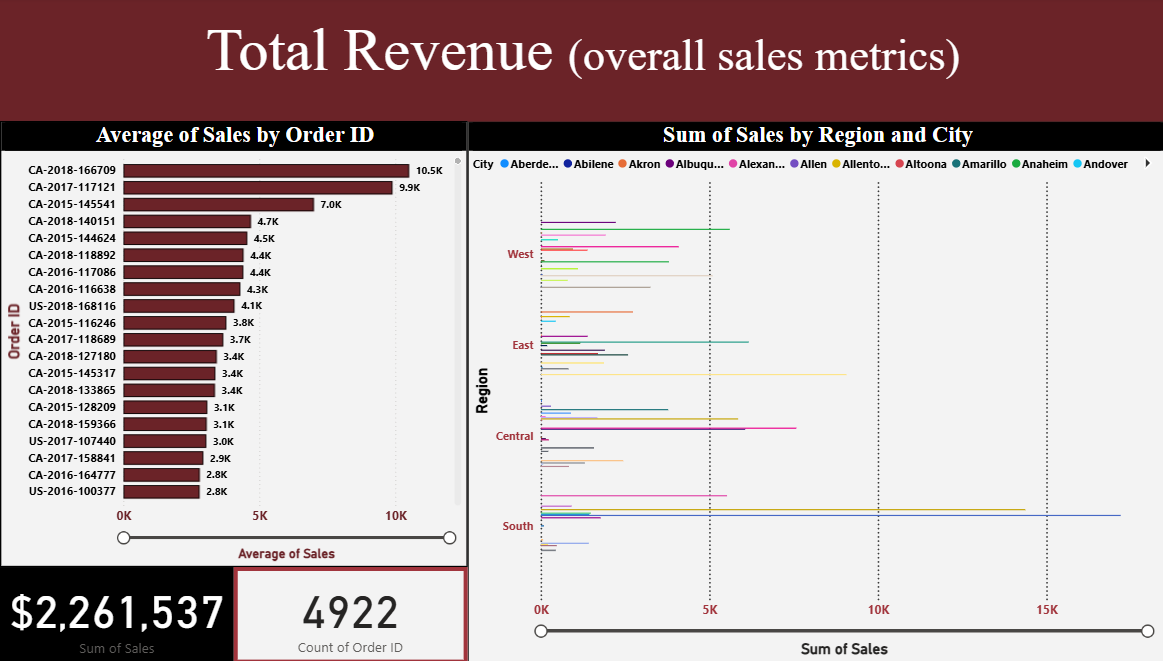

The page's visual inventory and layout, read from the dashboard file:
{"tool":"powerbi","page":{"name":"TOT_RV","canvas":[1400,800],"ordinal":0},"visuals":[{"type":"clusteredBarChart","fields":{"Series":["train (Cleaned).City"],"Category":["train (Cleaned).Region"],"Y":["Sum(train (Cleaned).Sales)"]},"box":[561.6,148.9,838.4,651.1],"z":0},{"type":"card","fields":{"Values":["Sum(train (Cleaned).Sales)"]},"box":[0,683.7,281,116.3],"z":1000},{"type":"textbox","box":[0,0,1400.3,149.5],"z":2000},{"type":"clusteredBarChart","fields":{"Category":["train (Cleaned).Order ID"],"Y":["Avg(train (Cleaned).Sales)"]},"box":[0,148.6,561.3,535.8],"z":3000},{"type":"card","fields":{"Values":["Count(train (Cleaned).Order ID)"]},"box":[281,683.7,281,116.3],"z":4000}]}

Visuals, with their boxes in screenshot pixels (x1, y1, x2, y2), scaled from the page's 1400x800 canvas onto the 1163x661 screenshot:
clusteredBarChart - train (Cleaned).City x train (Cleaned).Region: <box>467,123,1162,660</box>
card - Sum(train (Cleaned).Sales): <box>0,565,233,660</box>
textbox: <box>0,0,1162,124</box>
clusteredBarChart - train (Cleaned).Order ID x Avg(train (Cleaned).Sales): <box>0,123,466,565</box>
card - Count(train (Cleaned).Order ID): <box>233,565,467,660</box>
